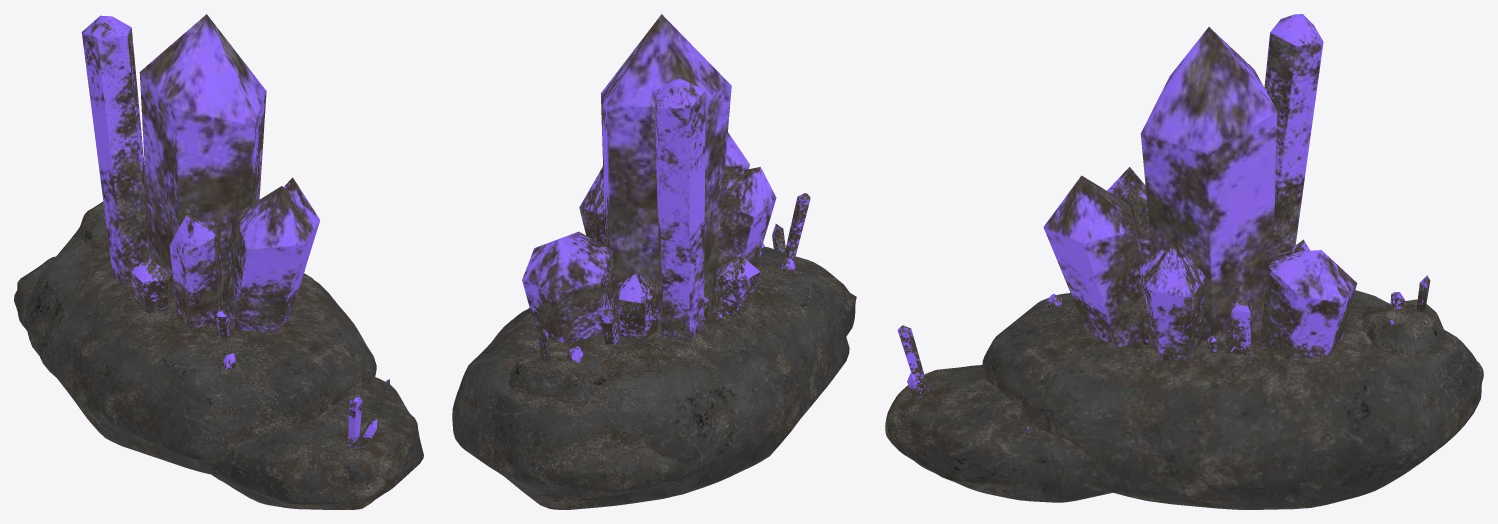
File: sky_blue_crystal.glb
3 renders of one model, left to right at view 1: azimuth 30°, elevation 25°; view 2: azimuth 150°, elevation 25°; view 3: azimuth 270°, elevation 25°, orthographic. The views are drawn at different scales.
Parts seen in each view (by area): view 1: Object_2; view 2: Object_2; view 3: Object_2.
Part boxes in pixels (box(x1,y1,x2,y2)): Object_2: box(14, 14, 423, 509); Object_2: box(452, 14, 856, 509); Object_2: box(885, 14, 1483, 509).
Size of the model in its own units: 5.83 by 8.58 by 10.44.
Materials: 1 (1 with a texture image).
